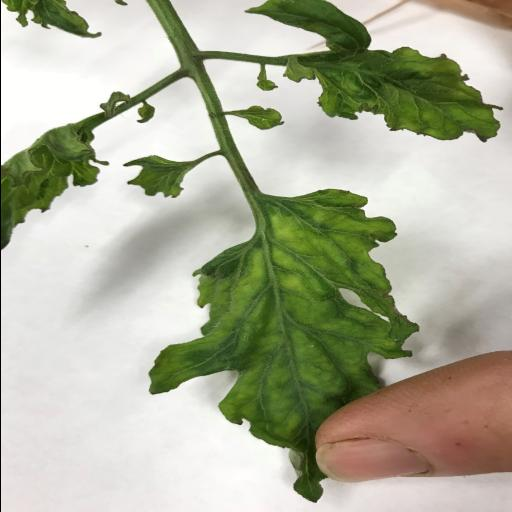disease_tomato: (146, 187, 422, 505), (288, 46, 503, 144)
